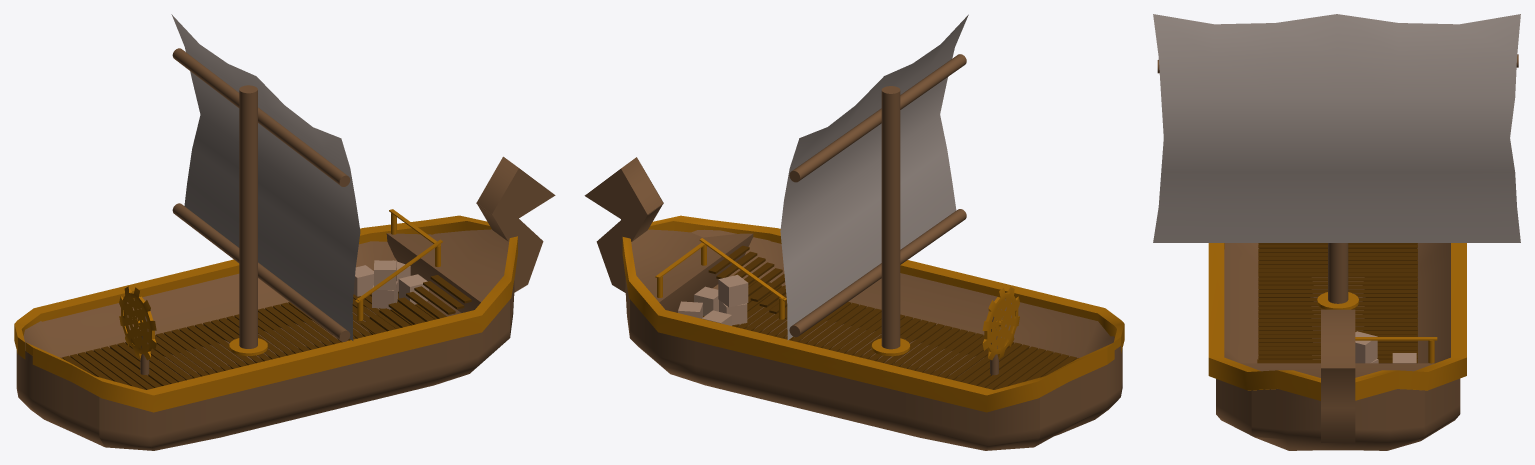
Rendered from boat.fbx.
The picture shows the model from 3 angles, left to right: view 1: azimuth 30°, elevation 25°; view 2: azimuth 150°, elevation 25°; view 3: azimuth 270°, elevation 25°; orthographic projection. The views are drawn at different scales.
Parts seen in each view (by area): view 1: pCube70; view 2: pCube70; view 3: pCube70.
Part boxes in pixels (x1=…): pCube70: x1=14, y1=14, x2=555, y2=450; pCube70: x1=584, y1=14, x2=1124, y2=450; pCube70: x1=1153, y1=14, x2=1520, y2=450.
Bounding box in the file's own units: 9.69 × 5.49 × 5.45.
